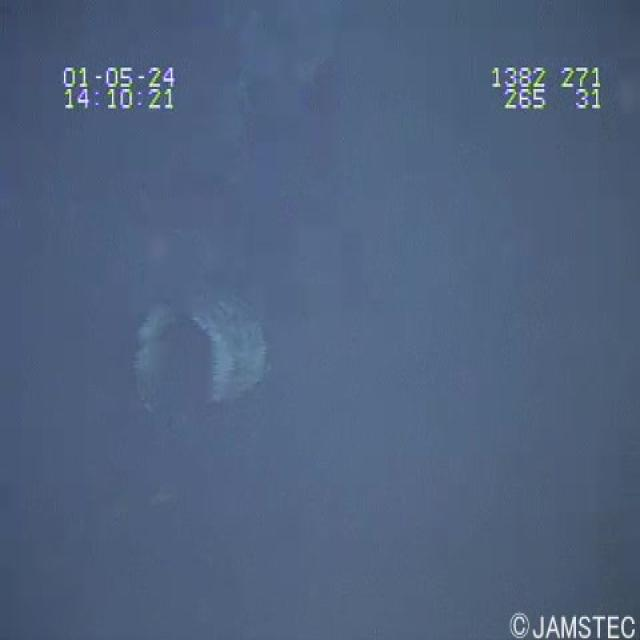plastic: (128, 281, 275, 435)
